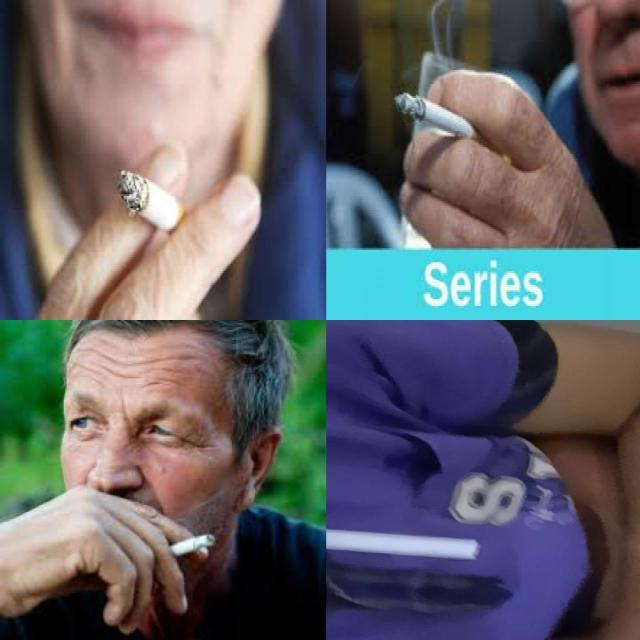smoking: (395, 90, 505, 158), (326, 518, 486, 562), (118, 167, 197, 243), (162, 533, 216, 558)
